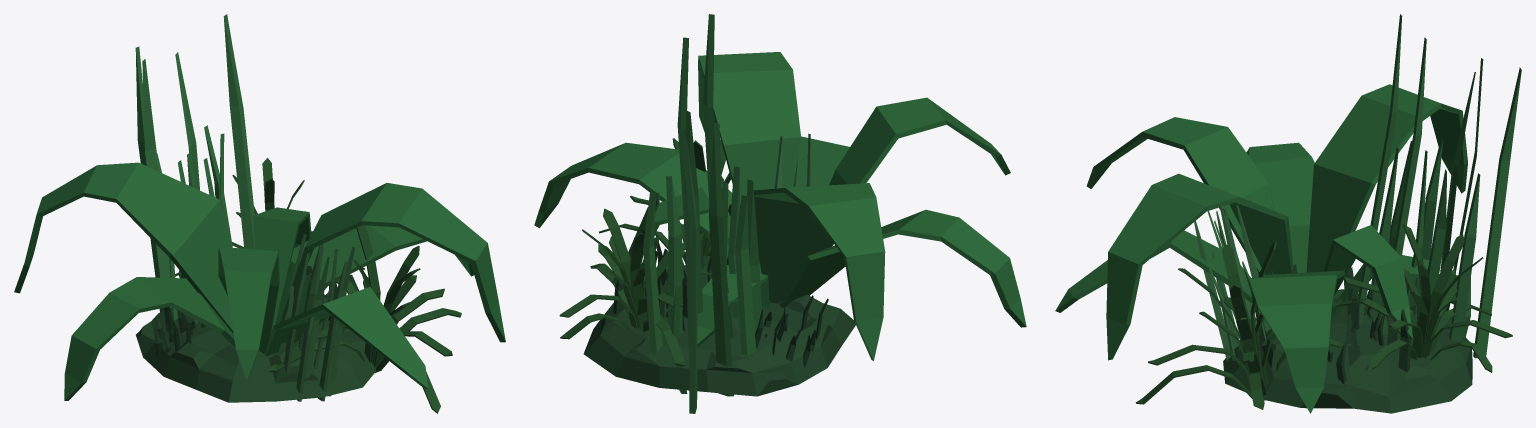
Rendered from SpawnPointGrassBush.fbx.
The picture shows the model from 3 angles, left to right: view 1: azimuth 30°, elevation 25°; view 2: azimuth 150°, elevation 25°; view 3: azimuth 270°, elevation 25°; orthographic projection. The views are drawn at different scales.
Parts seen in each view (by area): view 1: Plant_1, Bush, Grass_2, Grass, Plant_3.001, Grass_Short.002, Plant_3.002; view 2: Plant_1, Grass_2, Bush, Plant_3.002, Grass_Short.002, Plant_3.001, Grass_Short, Grass_Short.001, Grass; view 3: Plant_1, Grass_2, Bush, Plant_3.002, Plant_3.001, Grass, Grass_Short, Grass_Short.001.
Part boxes in pixels (<box>): Plant_1: <box>14,162,505,400</box>; Bush: <box>136,294,376,402</box>; Grass_2: <box>135,14,255,323</box>; Grass: <box>277,234,354,401</box>; Plant_3.001: <box>269,225,461,413</box>; Grass_Short.002: <box>153,307,205,356</box>; Plant_3.002: <box>175,158,364,276</box>; Plant_1: <box>534,52,1026,360</box>; Grass_2: <box>643,14,763,413</box>; Bush: <box>583,255,855,396</box>; Plant_3.002: <box>559,192,711,366</box>; Grass_Short.002: <box>755,295,828,368</box>; Plant_3.001: <box>599,138,730,271</box>; Grass_Short: <box>613,204,731,313</box>; Grass_Short.001: <box>658,255,728,330</box>; Grass: <box>774,133,810,188</box>; Plant_1: <box>1055,84,1467,413</box>; Grass_2: <box>1358,14,1521,358</box>; Bush: <box>1223,289,1472,413</box>; Plant_3.002: <box>1336,224,1512,372</box>; Plant_3.001: <box>1135,241,1347,409</box>; Grass: <box>1194,195,1273,360</box>; Grass_Short: <box>1292,264,1410,384</box>; Grass_Short.001: <box>1347,267,1417,345</box>.
Size of the model in its own units: 251 by 185 by 222.
